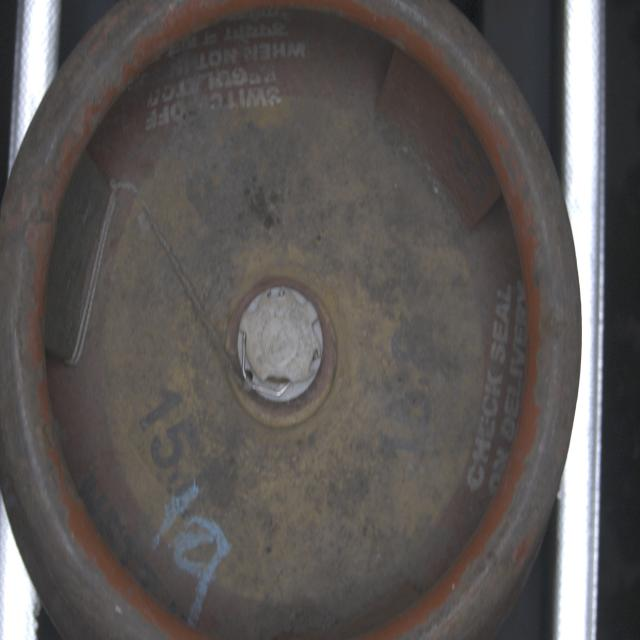Cap: (236, 288, 324, 410)
